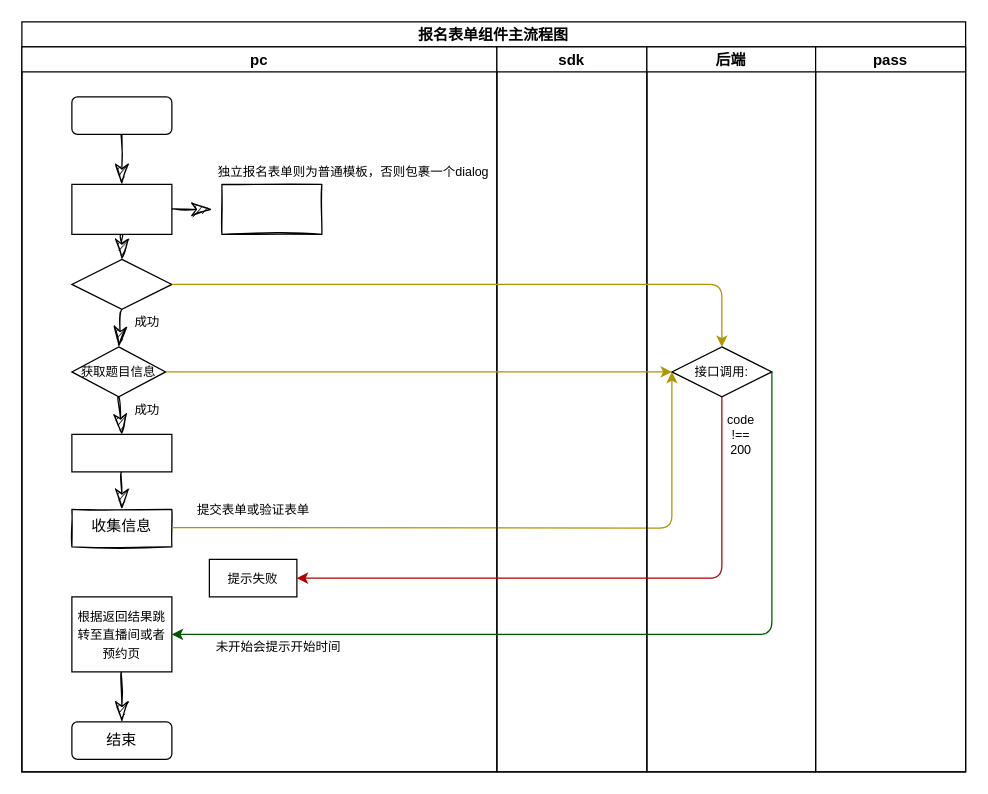
The diagram is 988 pixels wide and 794 high, and some of its shapes have lost their labels. The centre of each missing label's shape, as x and y in pixels:
"初始化tab/题目/翻译等" goes at (x=121, y=452).
"判断是否是独立报名表单" goes at (x=271, y=208).
"开始" goes at (x=121, y=115).
"获取地址栏参数" goes at (x=121, y=208).
"获取活动信息" goes at (x=121, y=283).
